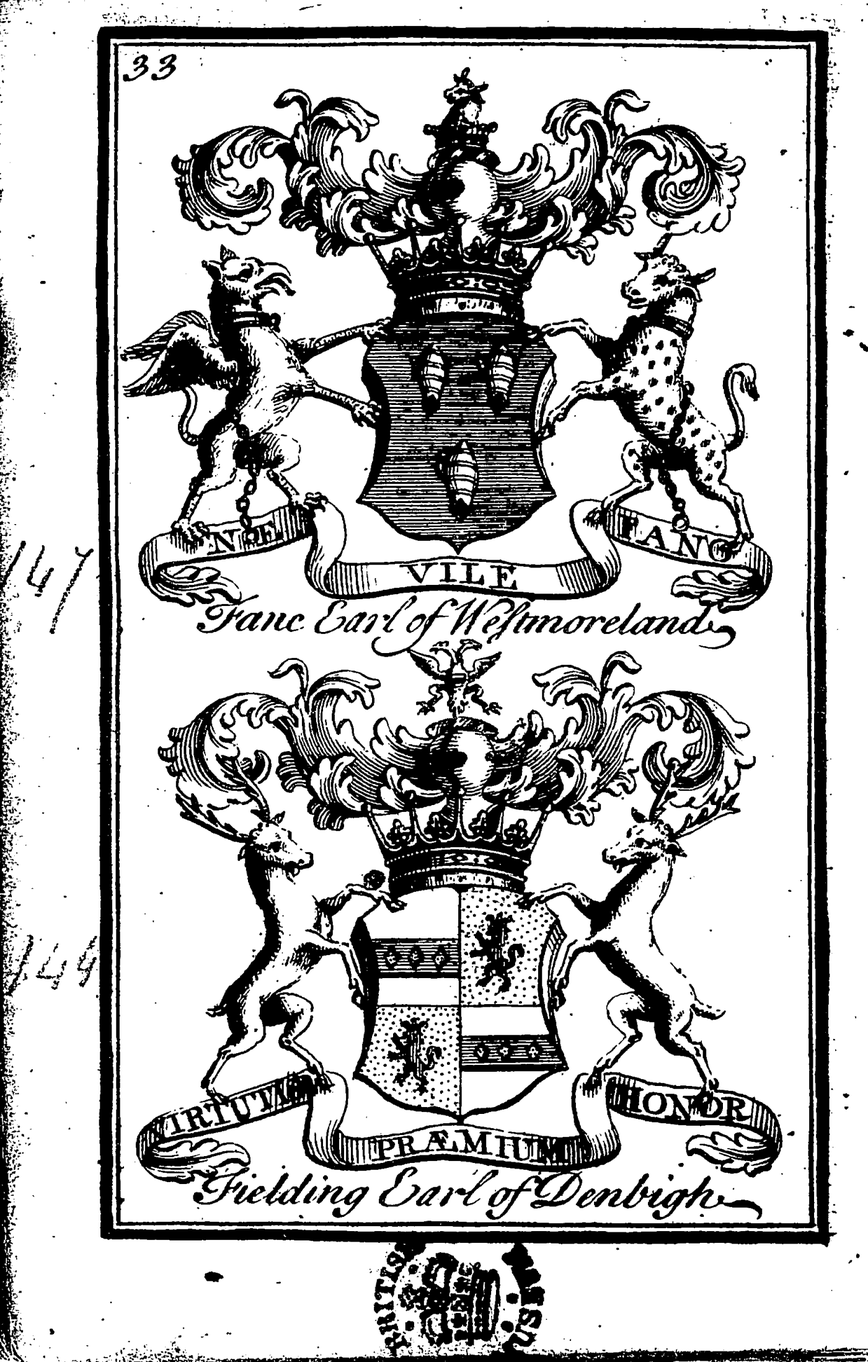coat_of_arms: (135, 60, 781, 654), (135, 652, 778, 1217)
